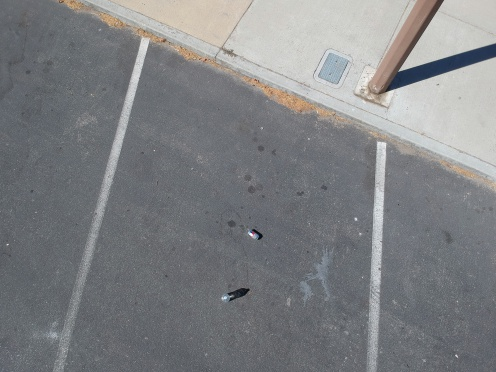bottle: (216, 290, 235, 307)
can: (244, 227, 260, 241)
